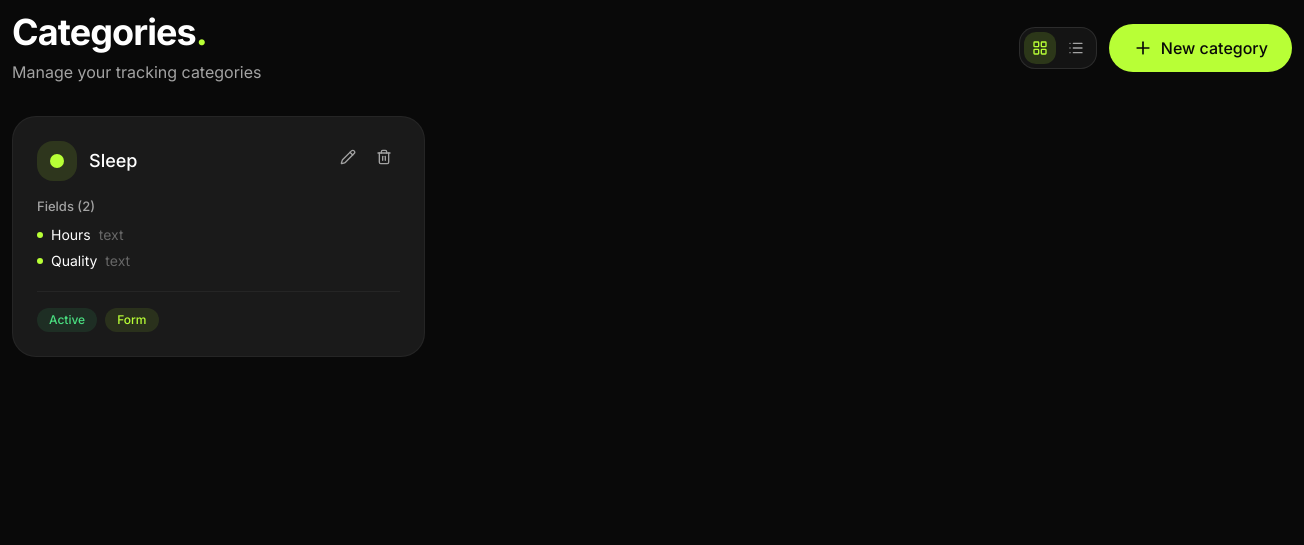
Test case: /categories (desktop) › opens the modal on a blank draft for a new category
Expected: the button named "Card view" is shown, [1024,32,1056,64]
Click the button "New category" at (1200, 48), box [1109,24,1292,72]
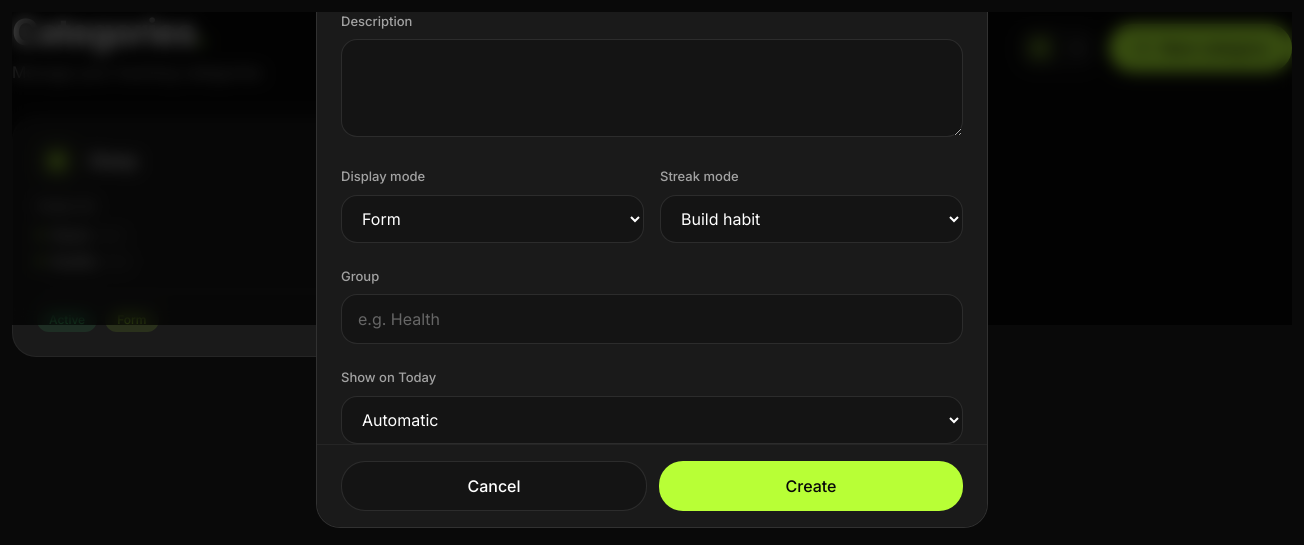
Result: the button "Create" is shown at [659,461,963,511]
